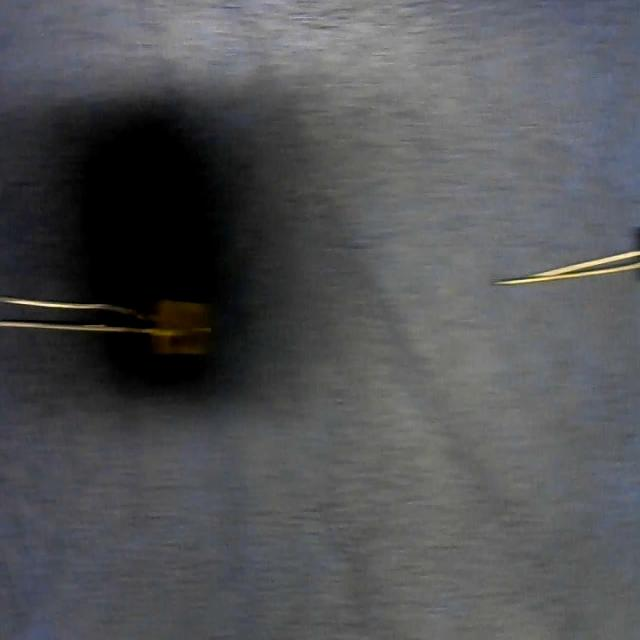LED: (2, 280, 209, 356)
